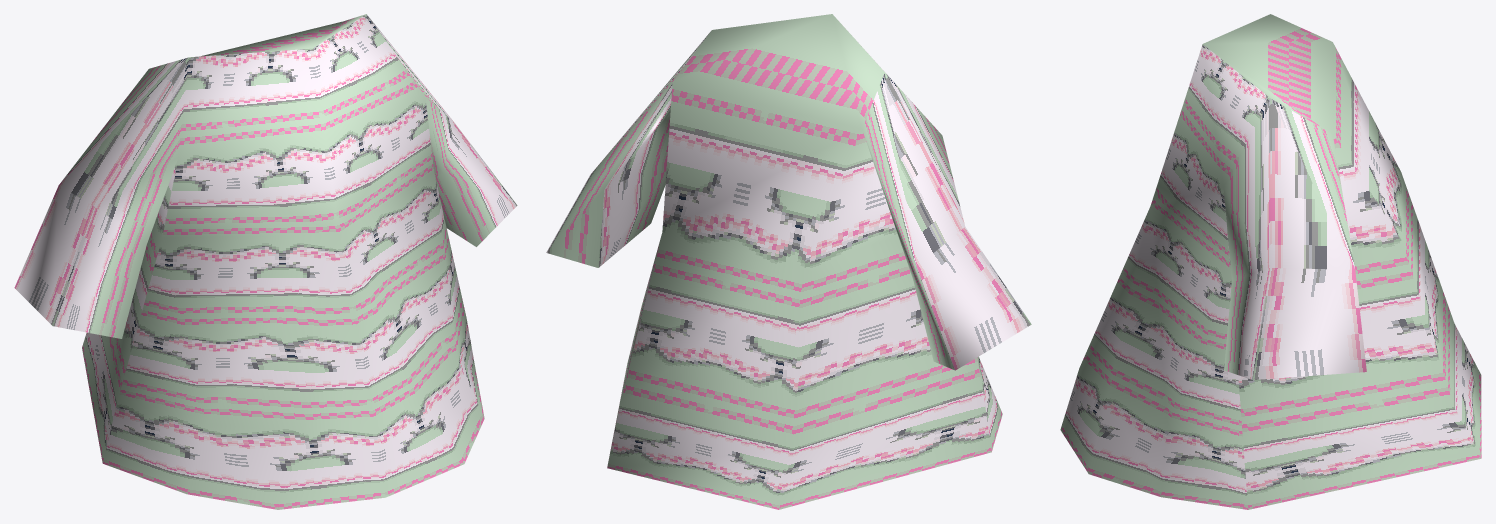
Rendered from 2501dress000_r.gltf.
3 renders of one model, left to right at view 1: azimuth 30°, elevation 25°; view 2: azimuth 150°, elevation 25°; view 3: azimuth 270°, elevation 25°, orthographic. The views are drawn at different scales.
Parts seen in each view (by area): view 1: 2501dress000_r; view 2: 2501dress000_r; view 3: 2501dress000_r.
Boxes of the visible parts, box(x1,y1,x2,y2) form: 2501dress000_r: box(14, 14, 517, 509); 2501dress000_r: box(546, 14, 1031, 509); 2501dress000_r: box(1060, 14, 1481, 509).
Size of the model in its own units: 1.09 by 0.8945 by 0.8848.
1 material, 1 textured.
